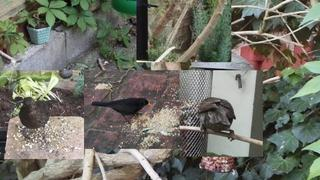blackbird: (18, 97, 57, 146), (91, 97, 153, 125)
starling: (199, 97, 236, 142)
